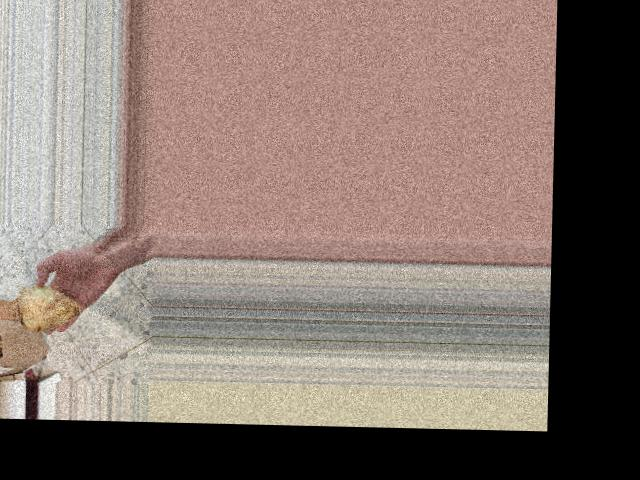onion: (14, 281, 83, 334)
